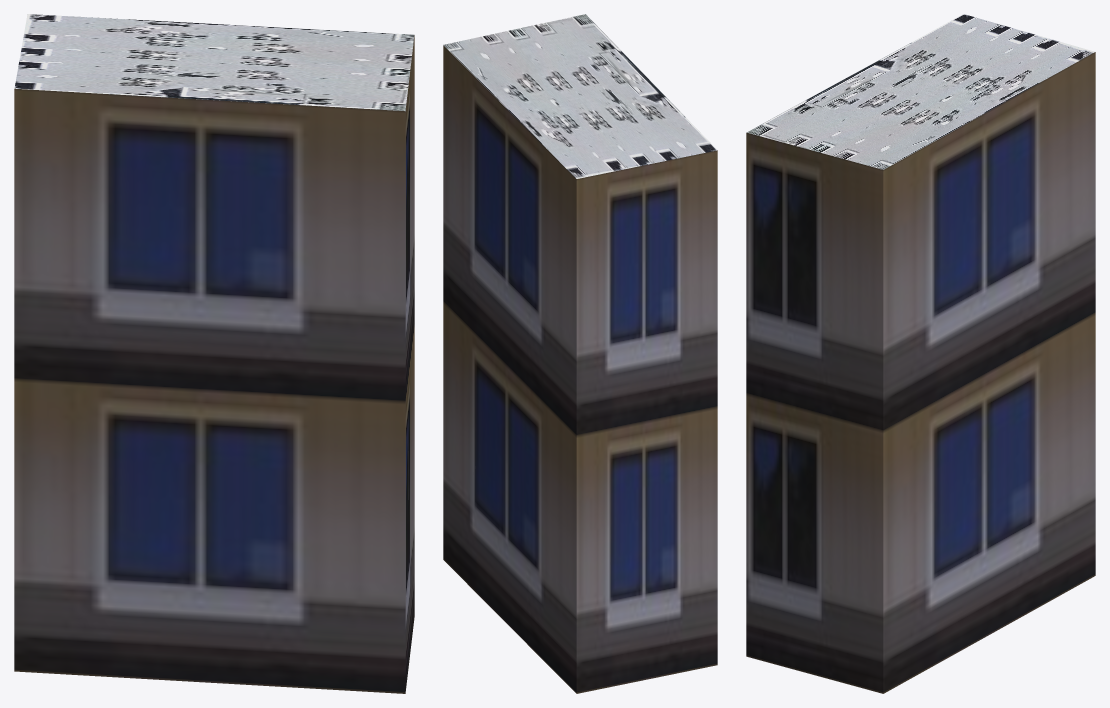
Rendered from ResTex__4356.fbx.
3 renders of one model, left to right at view 1: azimuth 30°, elevation 25°; view 2: azimuth 150°, elevation 25°; view 3: azimuth 270°, elevation 25°, orthographic. The views are drawn at different scales.
Visible parts, largest first — view 1: CityEngineMaterial_5_m, CityEngineMaterial_m; view 2: CityEngineMaterial_5_m, CityEngineMaterial_m; view 3: CityEngineMaterial_5_m, CityEngineMaterial_m.
Boxes of the visible parts, x1,y1,x2,y2 form: CityEngineMaterial_5_m: [14, 35, 414, 693]; CityEngineMaterial_m: [14, 14, 414, 111]; CityEngineMaterial_5_m: [443, 45, 717, 693]; CityEngineMaterial_m: [443, 14, 717, 178]; CityEngineMaterial_5_m: [746, 52, 1095, 693]; CityEngineMaterial_m: [747, 14, 1094, 169].
Bounding box in the file's own units: 3.83 × 6 × 3.62.
Materials: 2 (2 with a texture image).
